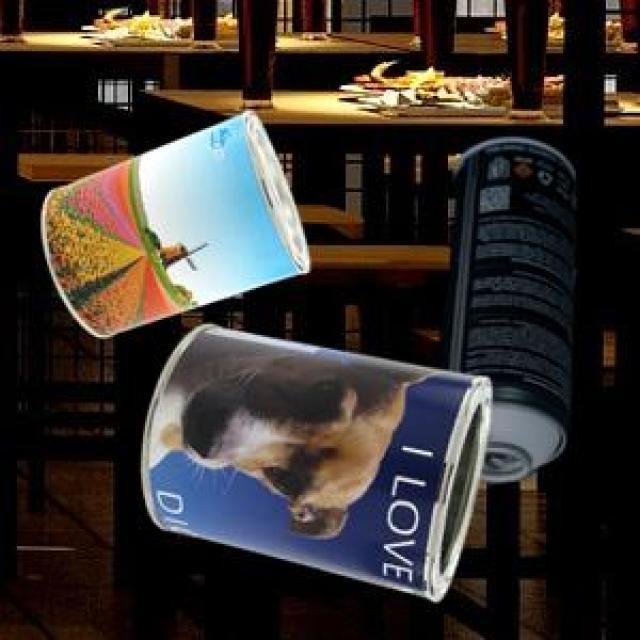Can: (140, 321, 487, 598), (39, 108, 306, 334), (432, 135, 573, 481)
